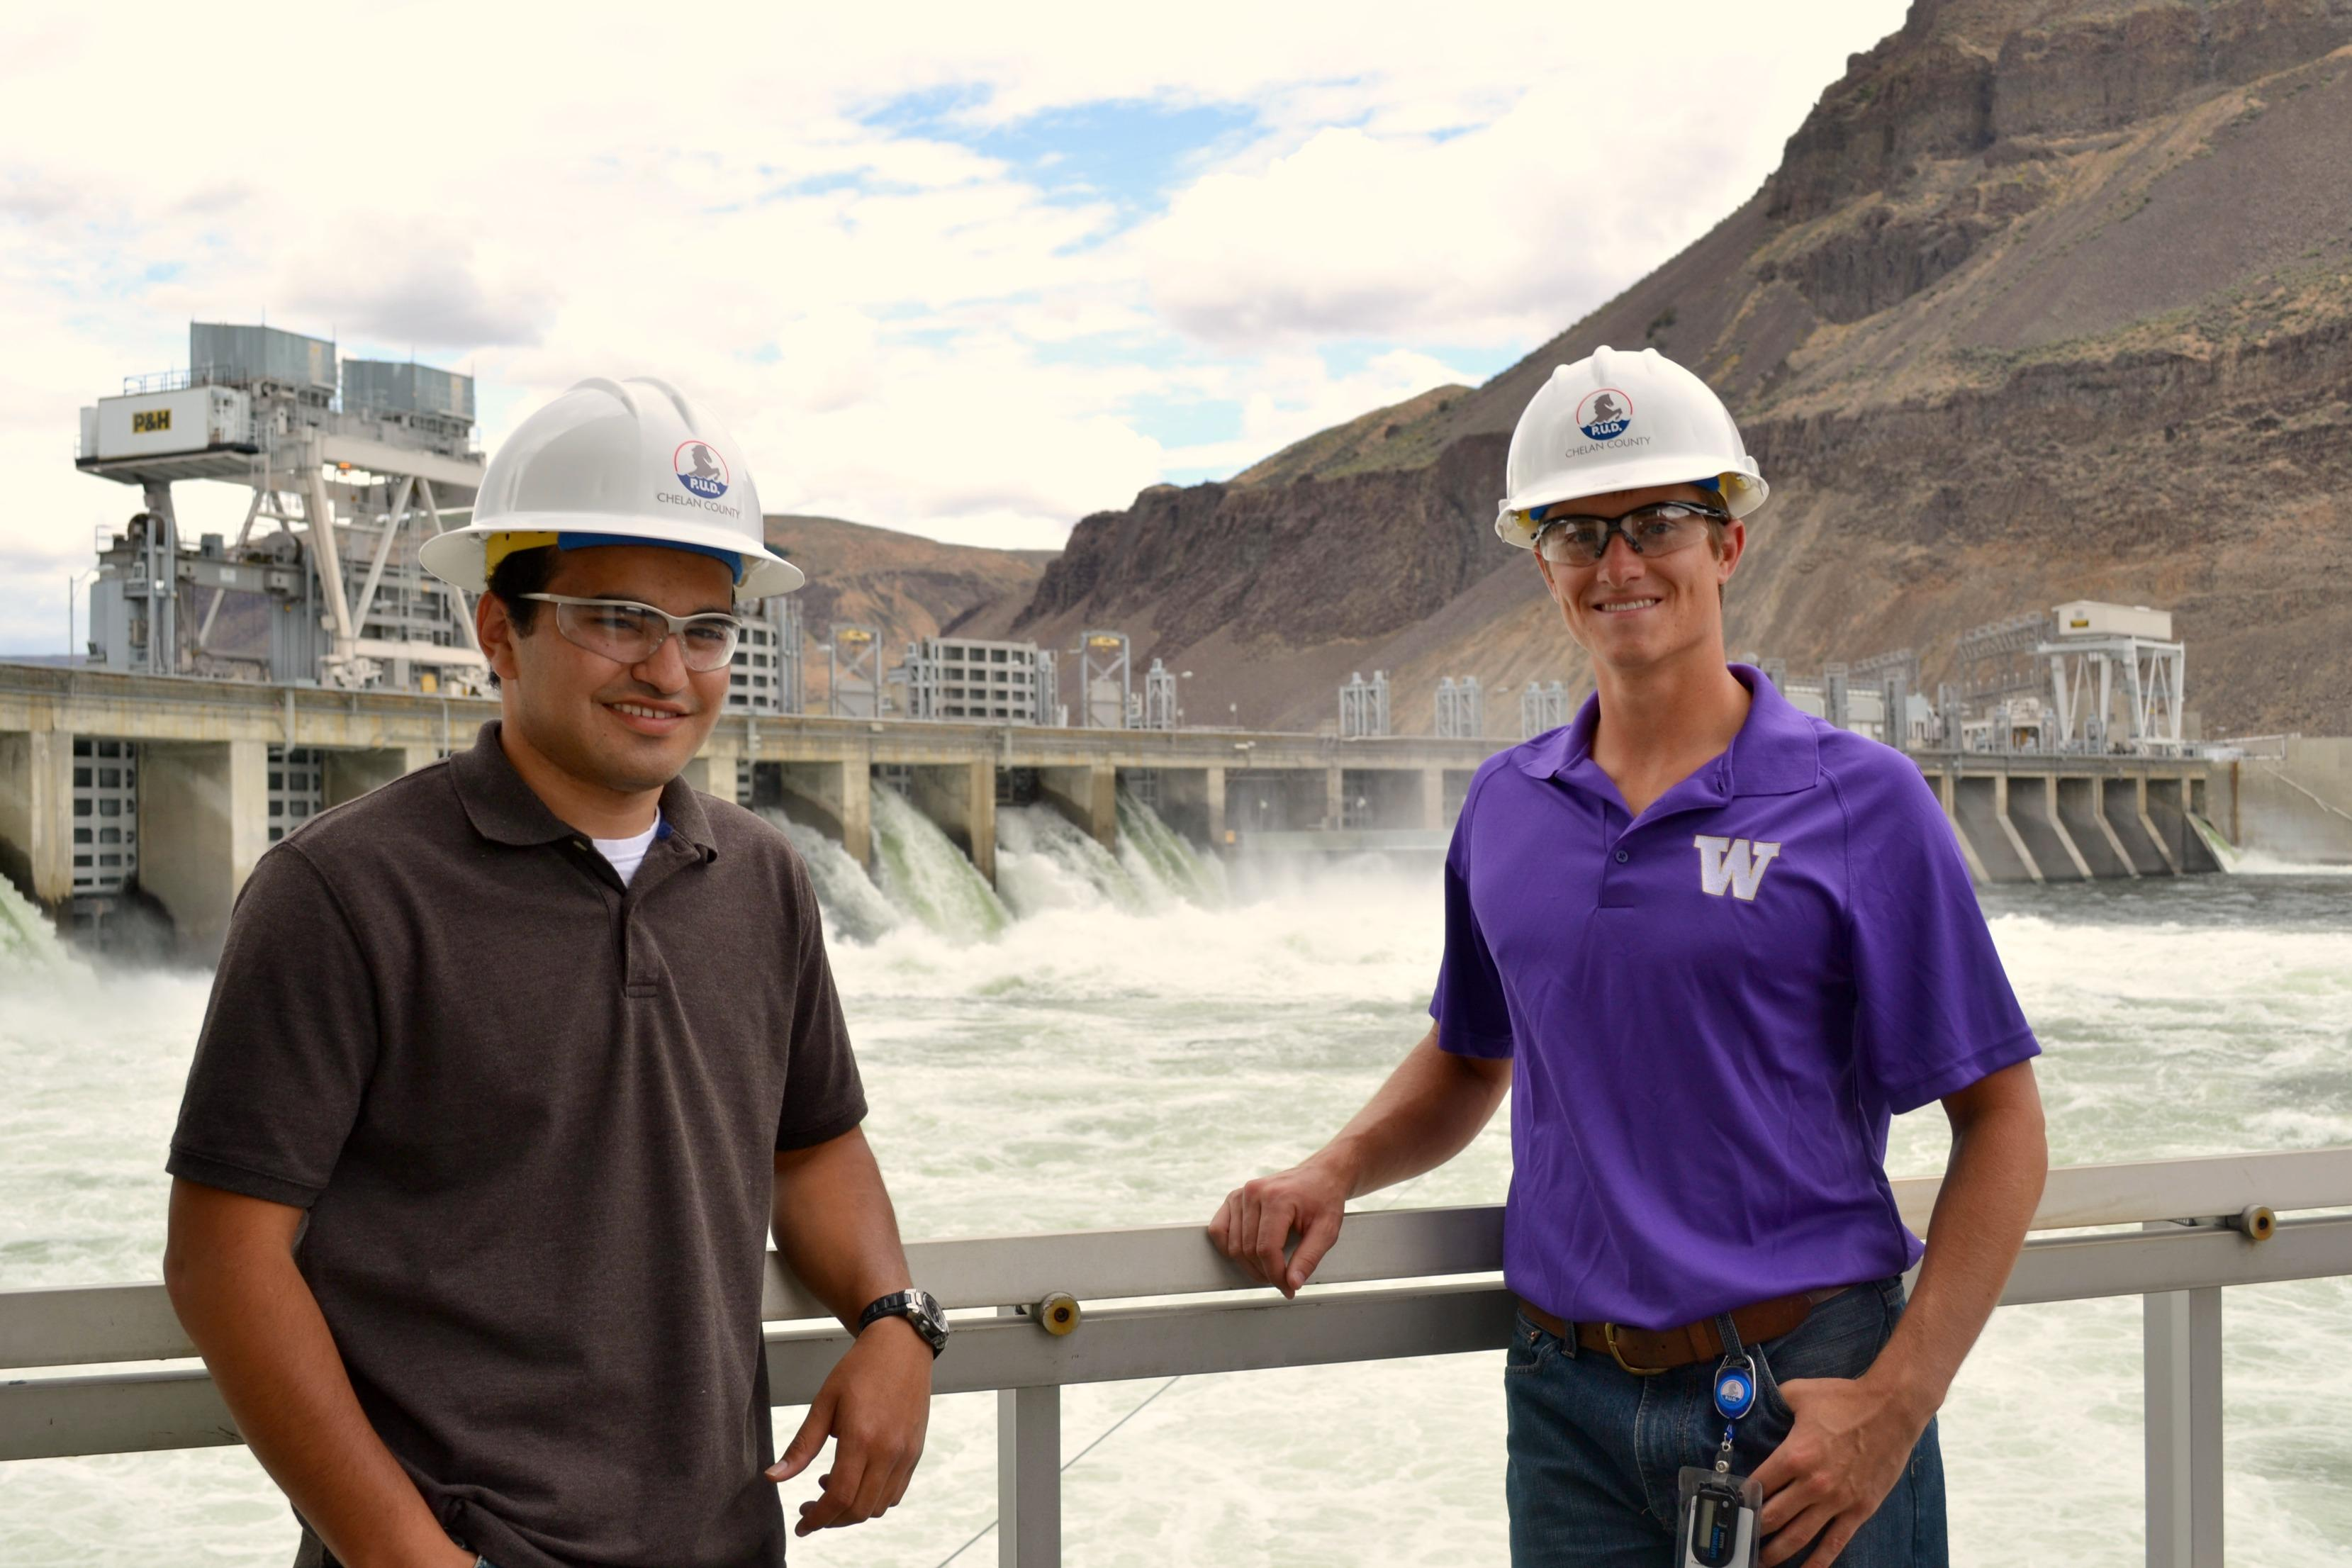helmet: (432, 374, 803, 619), (1491, 348, 1771, 546)
